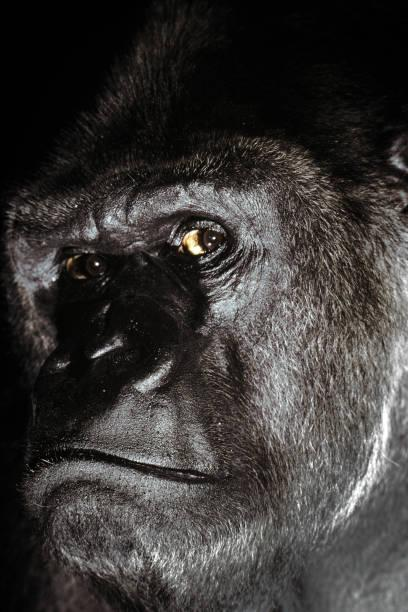gorille_Autres: (1, 6, 406, 612)
